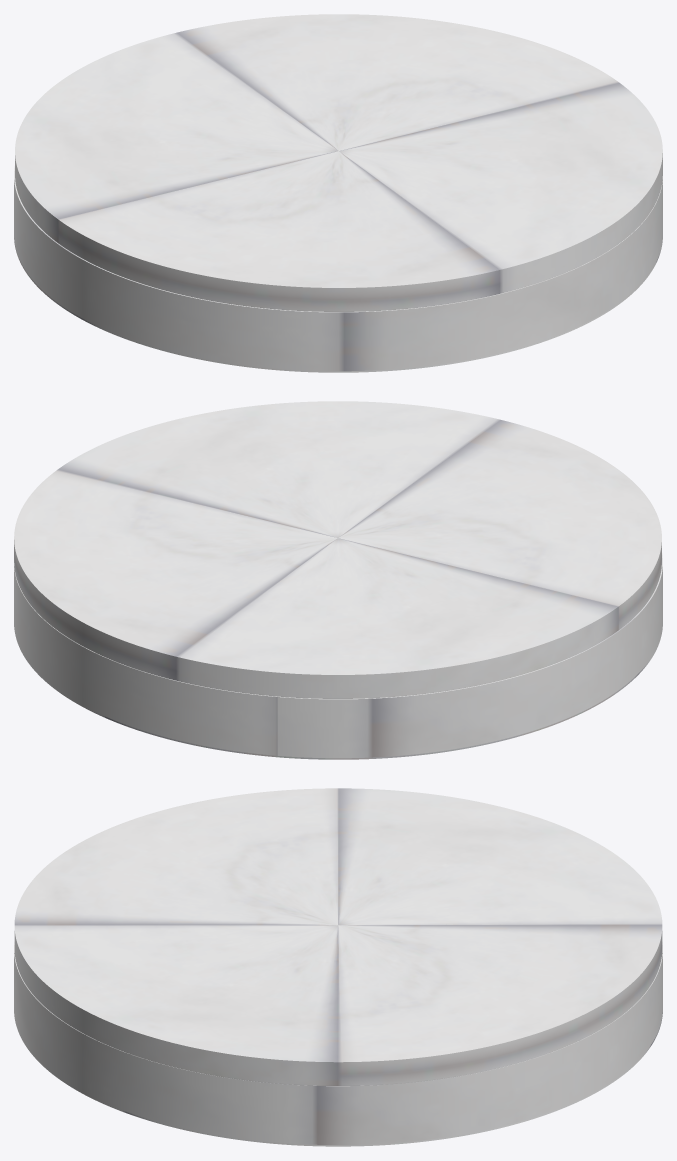
Rendered from Maze Official.fbx.
The picture shows the model from 3 angles, top to bottom: view 1: azimuth 30°, elevation 25°; view 2: azimuth 150°, elevation 25°; view 3: azimuth 270°, elevation 25°; orthographic projection.
Parts seen in each view (by area): view 1: roof, 3d; view 2: roof, 3d; view 3: roof, 3d.
Boxes of the visible parts, <box> form: roof: <box>15,14,662,311</box>; 3d: <box>14,166,662,372</box>; roof: <box>14,401,661,698</box>; 3d: <box>14,553,662,759</box>; roof: <box>14,788,662,1085</box>; 3d: <box>14,942,662,1146</box>.
Size of the model in its own units: 393 by 393 by 56.43.
Materials: 1 (1 with a texture image).
